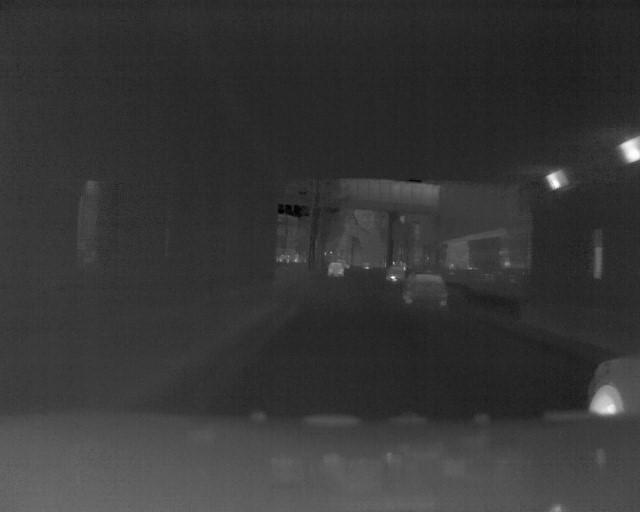car: (400, 269, 451, 307), (386, 261, 408, 285), (326, 258, 349, 280)
